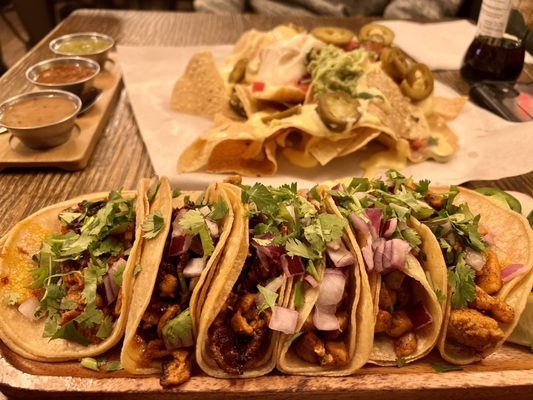soup: (0, 188, 141, 365)
sushi: (0, 89, 82, 151), (26, 56, 101, 113), (50, 32, 115, 69)
